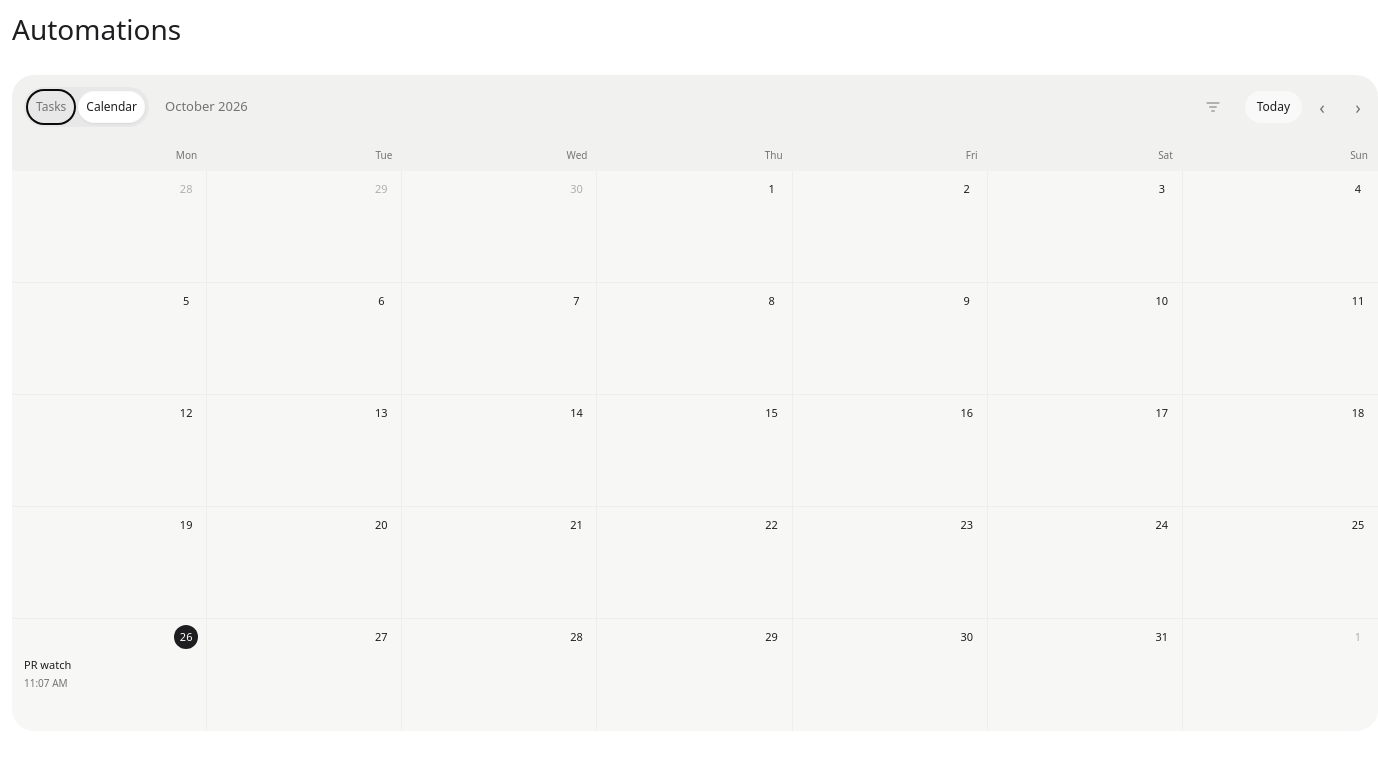
Test: Automation task list and detail sheet › keeps view selection and filters in one persistent panel toolbar
Expected: the element named "Automation view" is shown, [12,75,1377,139]
Click the button "Tasks".
click(51, 107)  # box [28,91,74,123]
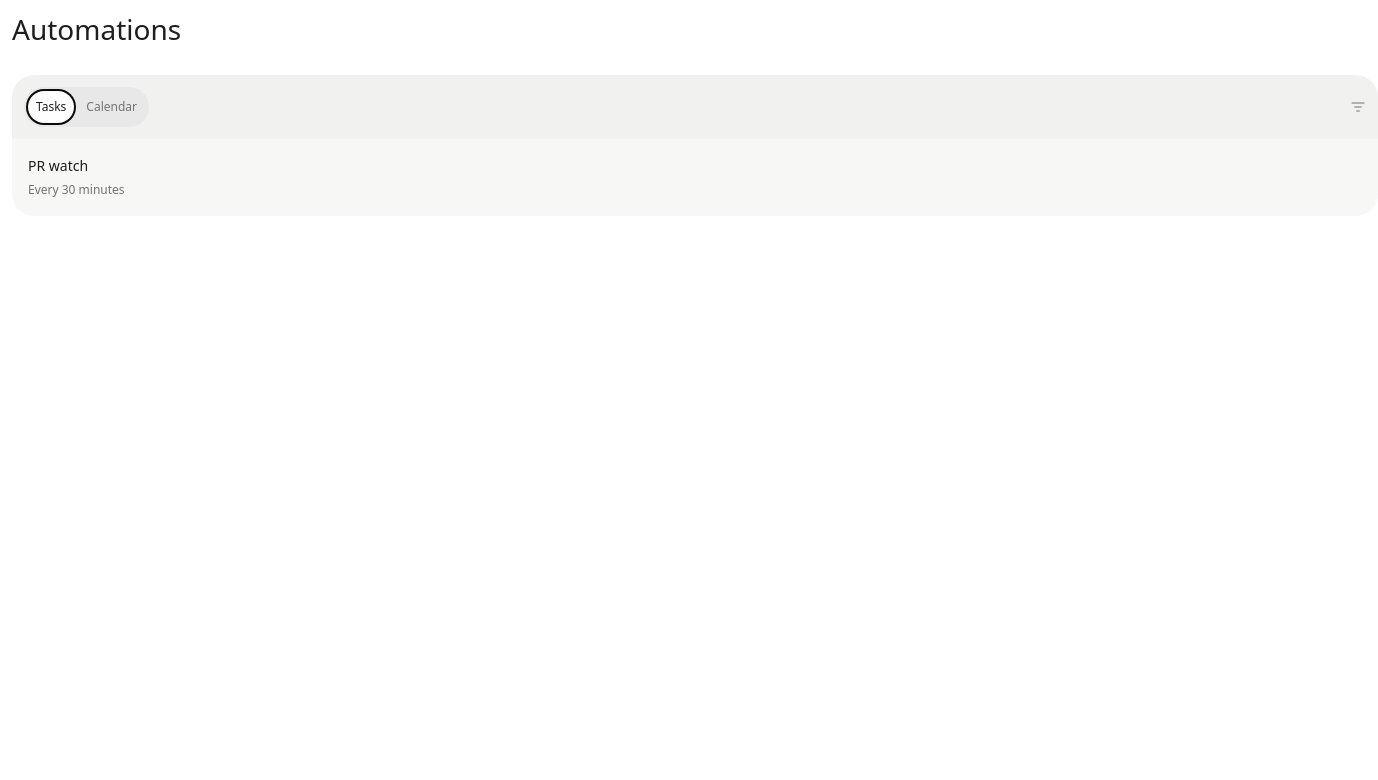
Expected: the heading "October 2026" is gone
